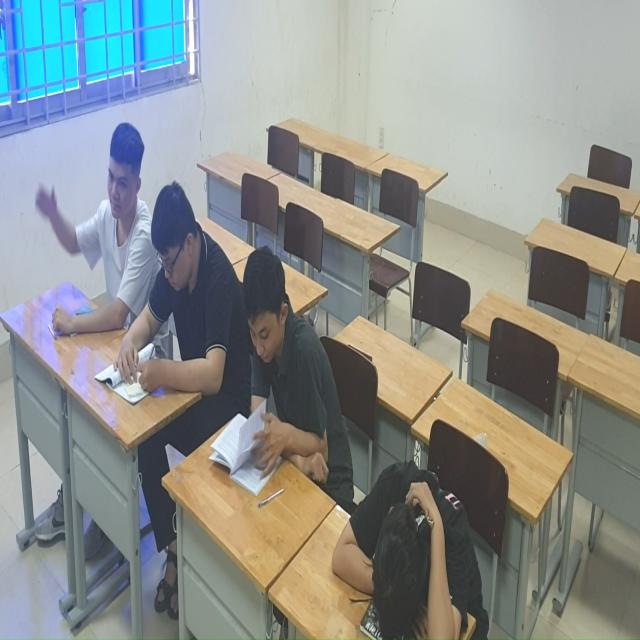raise_hand: (36, 117, 153, 356)
read: (211, 242, 339, 506), (113, 184, 225, 431)
sleep: (332, 458, 491, 640)
